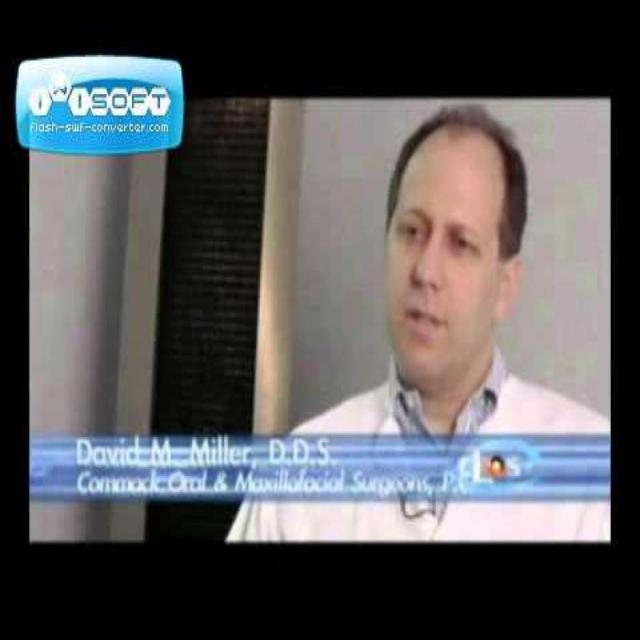nomask: (385, 150, 494, 376)
